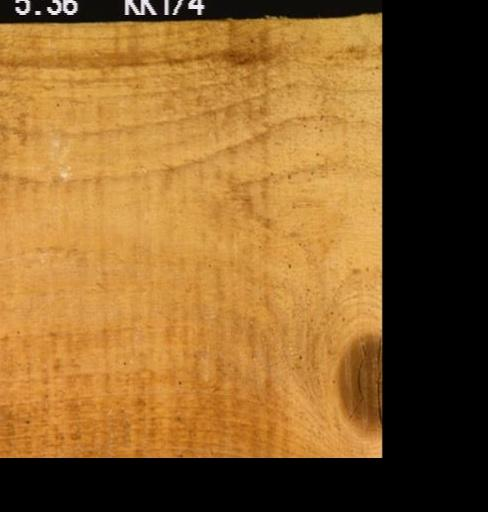sound_knot: (334, 324, 381, 434)
